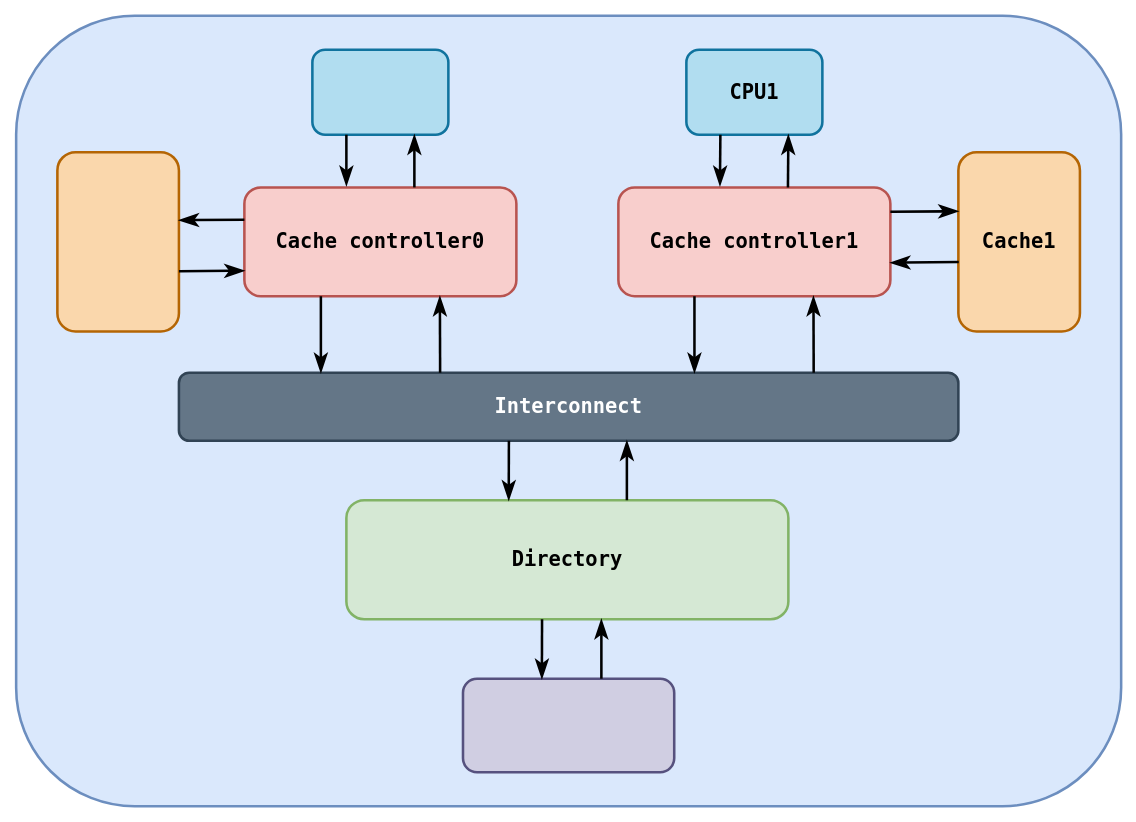
This 1136x822 diagram has some shape labels left out. Each missing label, with the box of its shape:
Cache0: (56, 150, 180, 332)
CPU0: (311, 48, 449, 136)
Memory: (461, 677, 675, 773)
